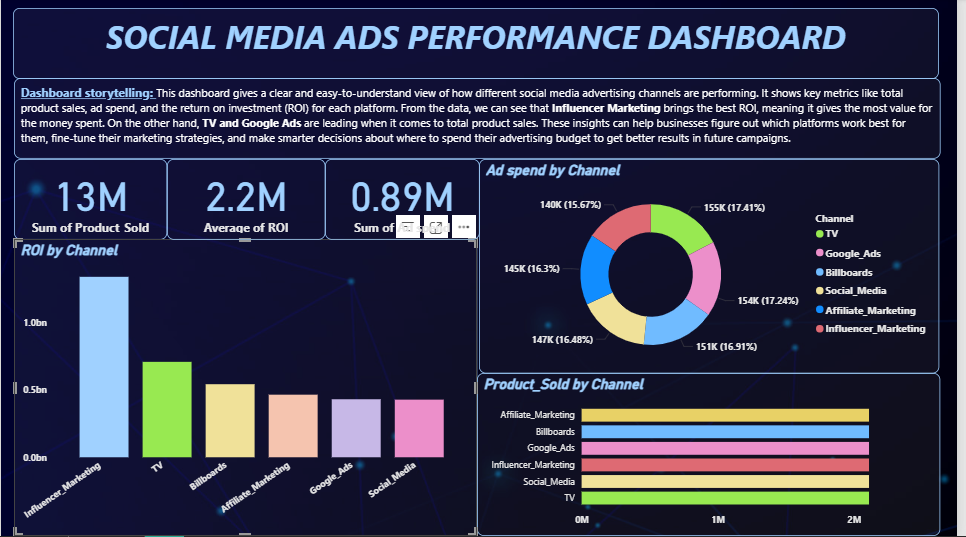

Layout of this report page (visuals, bound fields, positions):
{"tool":"powerbi","page":{"name":"Page 1","canvas":[1280,720],"ordinal":0},"visuals":[{"type":"card","fields":{"Values":["Sum(Advertising_Data.Product_Sold)"]},"box":[16.8,215,204.9,107.5],"z":0},{"type":"textbox","box":[16.5,13.7,1239.1,94.7],"z":1000},{"type":"barChart","title":" Product_Sold by Channel","fields":{"Category":["Advertising_Data.Channel"],"Y":["Sum(Advertising_Data.Product_Sold)"]},"box":[636.6,502.3,619.8,218.4],"z":2000},{"type":"clusteredColumnChart","title":"ROI by Channel","fields":{"Category":["Advertising_Data.Channel"],"Y":["Sum(Advertising_Data.ROI)"]},"box":[16.8,322.5,619.8,398.1],"z":3000},{"type":"card","fields":{"Values":["Sum(Advertising_Data.Value)"]},"box":[433.4,215,206.6,107.5],"z":4000},{"type":"card","fields":{"Values":["Avg(Advertising_Data.ROI)"]},"box":[221.7,215,211.7,107.5],"z":5000},{"type":"donutChart","title":"Ad spend by Channel","fields":{"Category":["Advertising_Data.Channel"],"Y":["Sum(Advertising_Data.Ad spend)"]},"box":[640,215,616.5,287.2],"z":6000},{"type":"textbox","box":[16.8,107.5,1239.7,107.5],"z":7000}]}

Visuals, with their boxes in screenshot pixels (x1, y1, x2, y2), scaled from the page's 1280x720 canvas onto the 966x537 screenshot:
card - Sum(Advertising_Data.Product_Sold): <region>13, 160, 167, 241</region>
textbox: <region>12, 10, 948, 81</region>
" Product_Sold by Channel" barChart: <region>480, 375, 948, 536</region>
"ROI by Channel" clusteredColumnChart: <region>13, 241, 480, 536</region>
card - Sum(Advertising_Data.Value): <region>327, 160, 483, 241</region>
card - Avg(Advertising_Data.ROI): <region>167, 160, 327, 241</region>
"Ad spend by Channel" donutChart: <region>483, 160, 948, 375</region>
textbox: <region>13, 80, 948, 160</region>
